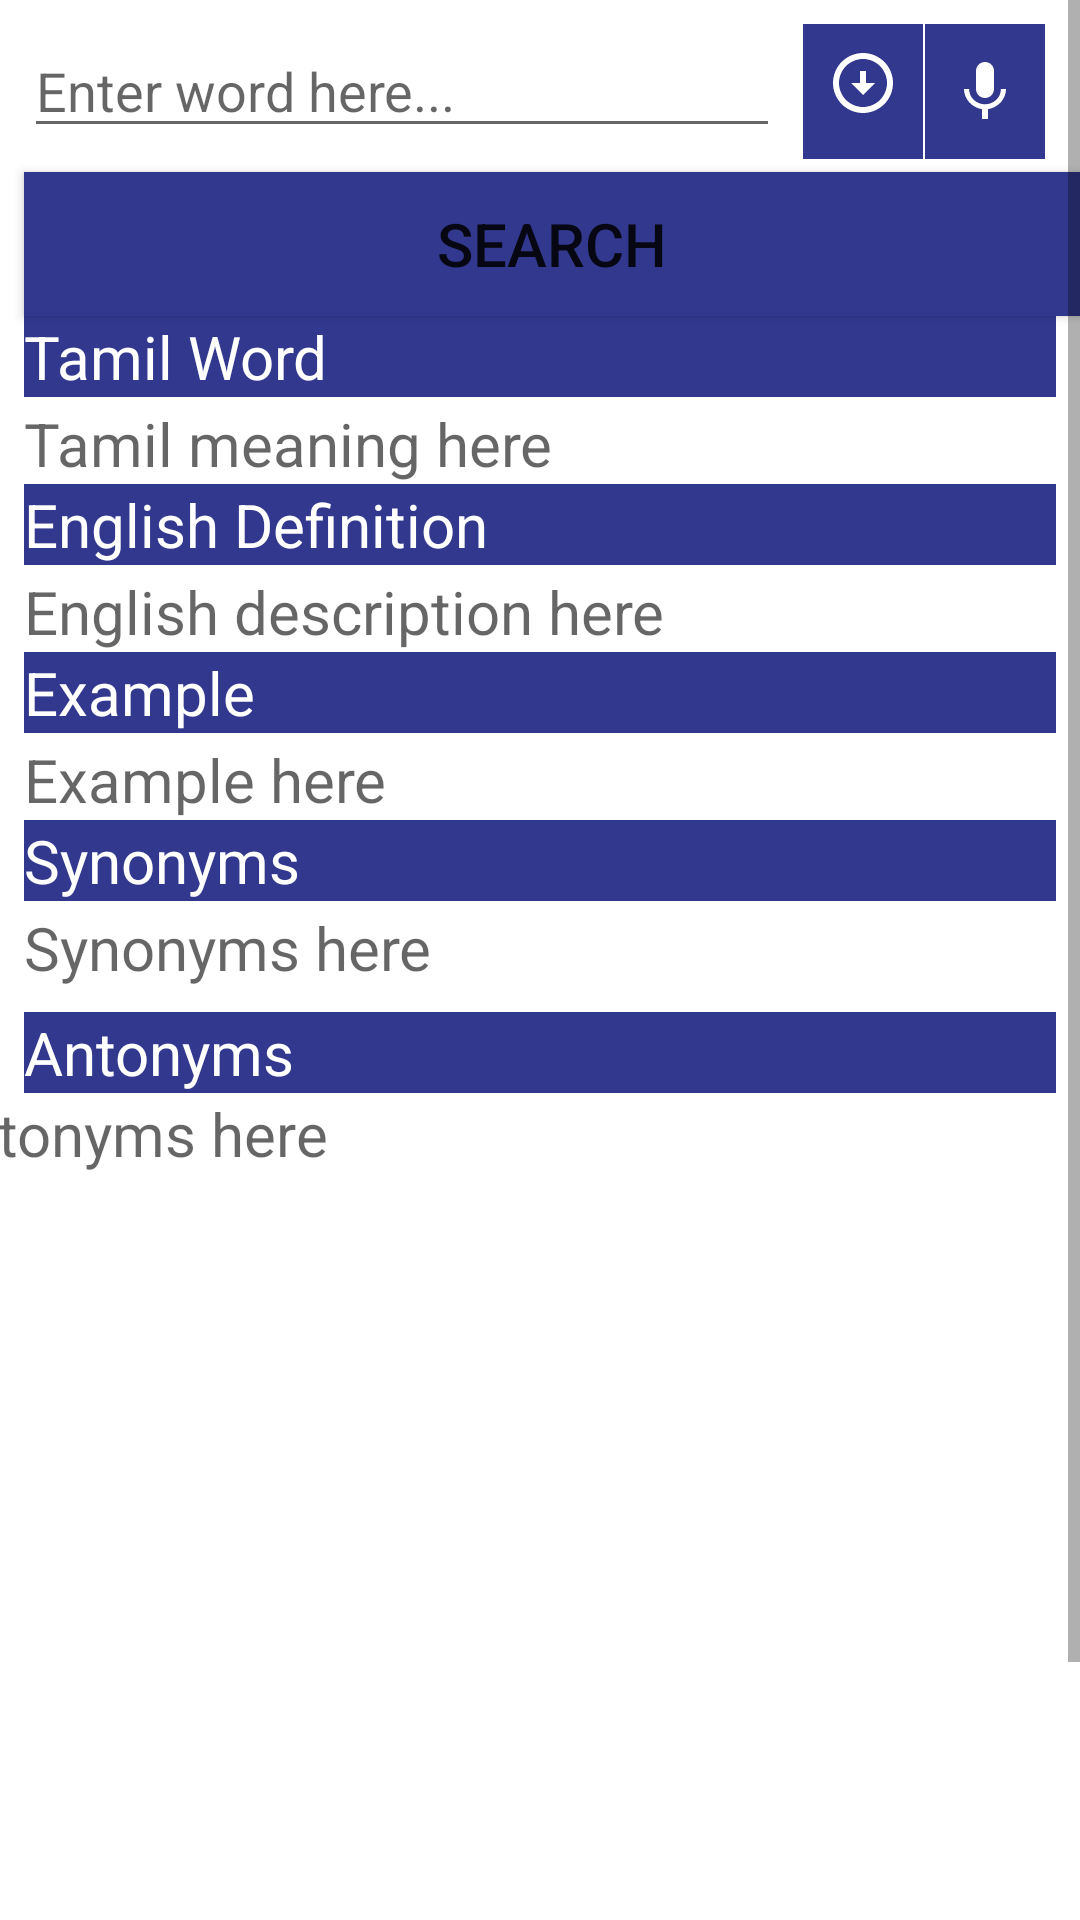

Icon click points for this 1080w x 1920h phone screenshot, format (x,y):
download: (863,91)
mic: (985,91)
